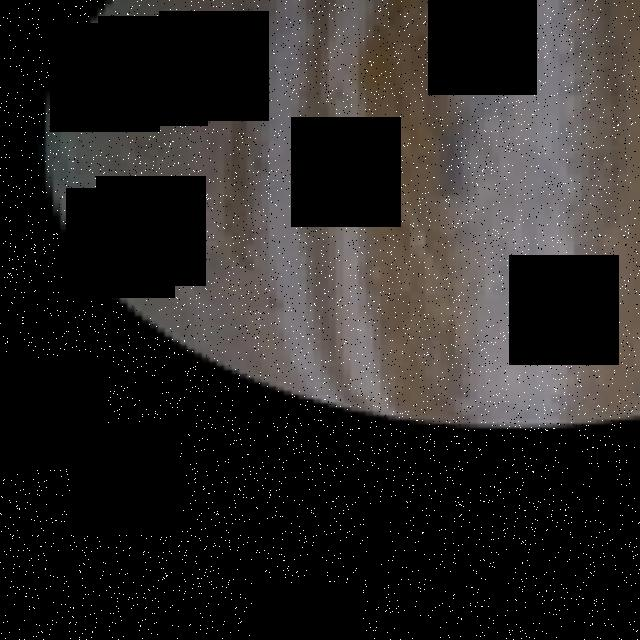Jupiter: (30, 0, 640, 428)
